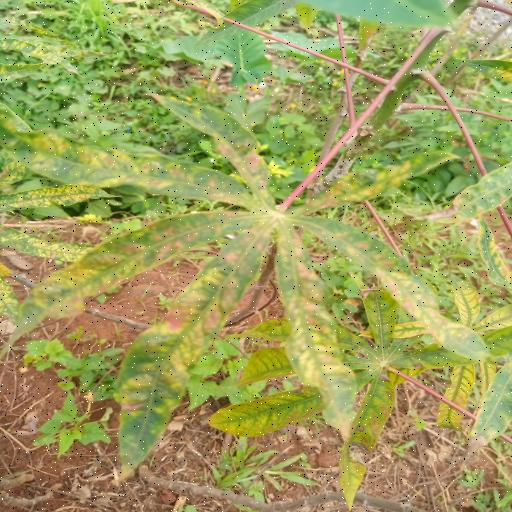Cassava_Mosaic: (0, 94, 464, 473)
